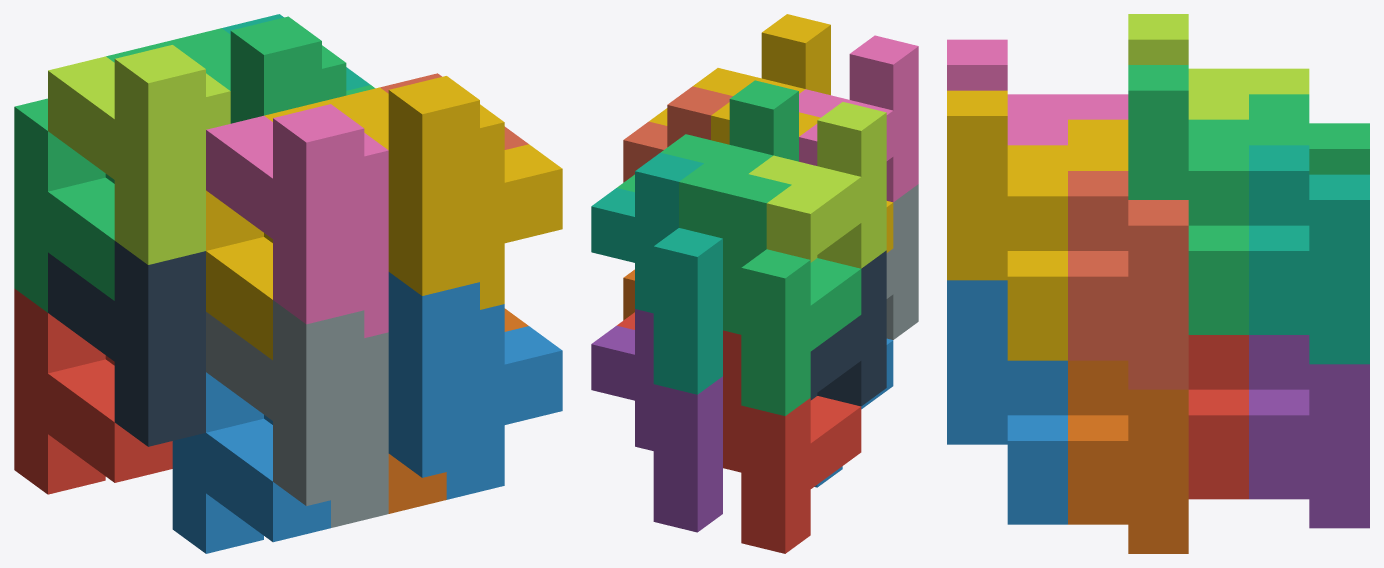
Rendered from tiling.obj.
The picture shows the model from 3 angles, left to right: view 1: azimuth 30°, elevation 25°; view 2: azimuth 150°, elevation 25°; view 3: azimuth 270°, elevation 25°; orthographic projection. The views are drawn at different scales.
Visible parts, largest first — view 1: copy_2_domain_8, copy_2_domain_4, copy_2_domain_6, copy_2_domain_2, copy_2_domain_3, copy_2_domain_1, copy_1_domain_1, copy_1_domain_2, copy_1_domain_3, copy_2_domain_7, copy_1_domain_4, copy_1_domain_6; view 2: copy_1_domain_3, copy_1_domain_7, copy_1_domain_1, copy_2_domain_3, copy_1_domain_5, copy_2_domain_7, copy_2_domain_4, copy_2_domain_1, copy_2_domain_8, copy_2_domain_2, copy_1_domain_8, copy_1_domain_4 (+2 smaller); view 3: copy_2_domain_8, copy_1_domain_7, copy_1_domain_8, copy_2_domain_7, copy_2_domain_6, copy_1_domain_5, copy_1_domain_6, copy_2_domain_5, copy_2_domain_4, copy_2_domain_3, copy_1_domain_3, copy_1_domain_4.
Boxes of the visible parts, x1,y1,x2,y2 form: copy_2_domain_8: (322, 76, 562, 309); copy_2_domain_4: (206, 104, 388, 337); copy_2_domain_6: (388, 272, 562, 499); copy_2_domain_2: (206, 300, 388, 527); copy_2_domain_3: (48, 45, 230, 264); copy_2_domain_1: (48, 241, 205, 446); copy_1_domain_1: (14, 288, 172, 494); copy_1_domain_2: (172, 372, 330, 553); copy_1_domain_3: (14, 42, 167, 312); copy_2_domain_7: (164, 16, 375, 123); copy_1_domain_4: (206, 101, 325, 360); copy_1_domain_6: (388, 308, 528, 513); copy_1_domain_3: (723, 174, 861, 415); copy_1_domain_7: (591, 152, 722, 394); copy_1_domain_1: (723, 330, 861, 553); copy_2_domain_3: (749, 102, 886, 268); copy_1_domain_5: (591, 309, 722, 532); copy_2_domain_7: (617, 80, 798, 238); copy_2_domain_4: (799, 35, 918, 202); copy_2_domain_1: (810, 250, 886, 406); copy_2_domain_8: (649, 14, 830, 144); copy_2_domain_2: (886, 184, 918, 339); copy_1_domain_8: (623, 86, 732, 182); copy_1_domain_4: (799, 112, 893, 252); copy_2_domain_8: (947, 90, 1128, 360); copy_1_domain_7: (1249, 145, 1369, 364); copy_1_domain_8: (1068, 171, 1188, 389); copy_2_domain_7: (1128, 65, 1309, 334); copy_2_domain_6: (947, 280, 1067, 524); copy_1_domain_5: (1249, 335, 1369, 528); copy_1_domain_6: (1068, 360, 1188, 553); copy_2_domain_5: (1188, 335, 1248, 499); copy_2_domain_4: (947, 39, 1128, 145); copy_2_domain_3: (1128, 14, 1309, 119); copy_1_domain_3: (1249, 94, 1369, 174); copy_1_domain_4: (1068, 119, 1128, 145).
Bounding box in the file's own units: 6 × 8 × 7.
